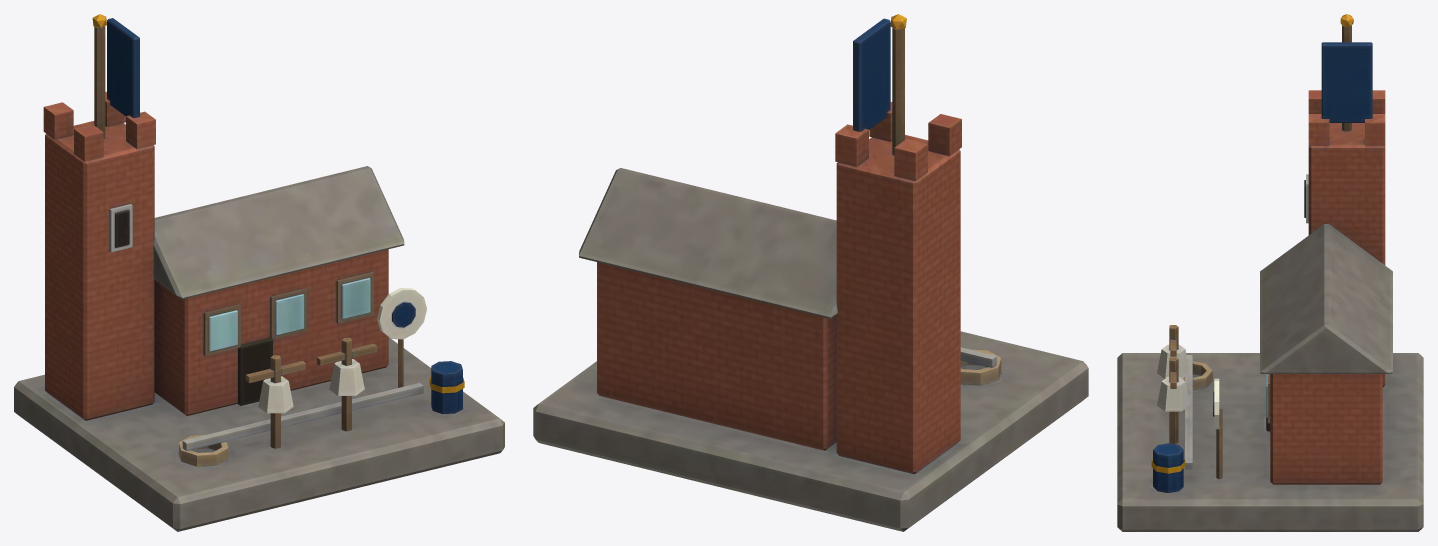
The model's file is barracks-10.glb.
3 renders of one model, left to right at view 1: azimuth 30°, elevation 25°; view 2: azimuth 150°, elevation 25°; view 3: azimuth 270°, elevation 25°, orthographic. The views are drawn at different scales.
Parts seen in each view (by area): view 1: barracks-10; view 2: barracks-10; view 3: barracks-10.
Boxes of the visible parts, <box> form: barracks-10: <box>14,14,504,531</box>; barracks-10: <box>533,14,1088,531</box>; barracks-10: <box>1117,14,1423,531</box>.
Bounding box in the file's own units: 1.4 × 1.69 × 1.2.
Materials: 1 (1 with a texture image).
